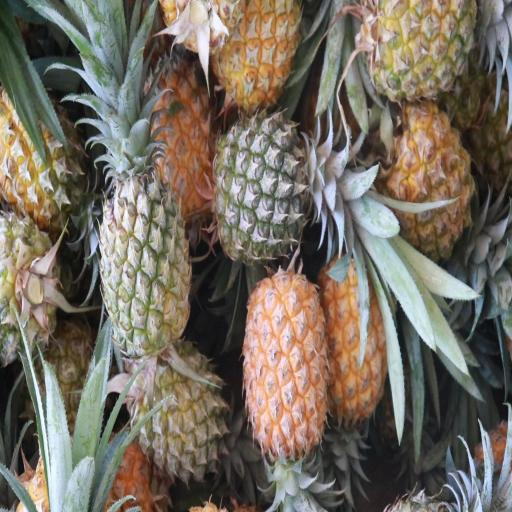------------------------------: (97, 149, 190, 346), (134, 343, 226, 477), (2, 88, 82, 220), (375, 0, 478, 93)
Pineapple - v8 v1: (246, 269, 330, 454), (384, 100, 473, 252), (320, 251, 390, 415), (146, 56, 218, 208), (217, 0, 303, 101)
